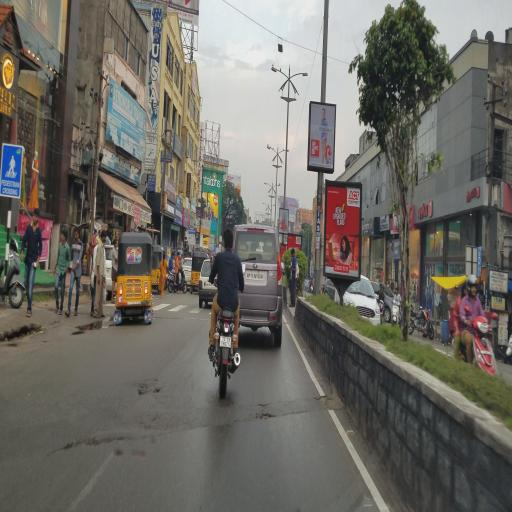street_light_0: (266, 54, 288, 90), (289, 60, 312, 92), (264, 134, 278, 166), (276, 143, 292, 166), (262, 175, 274, 195), (272, 179, 282, 197)
